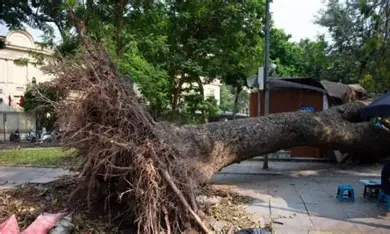ROAD_OBSTACLE: (30, 40, 385, 215)
